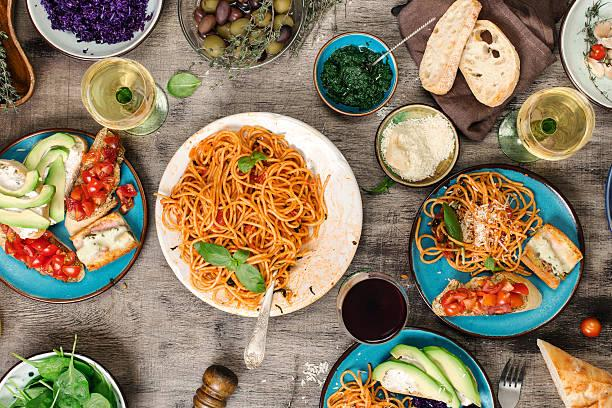Braised Crucian Carp: (154, 110, 354, 318), (408, 163, 588, 340), (0, 125, 149, 301)
